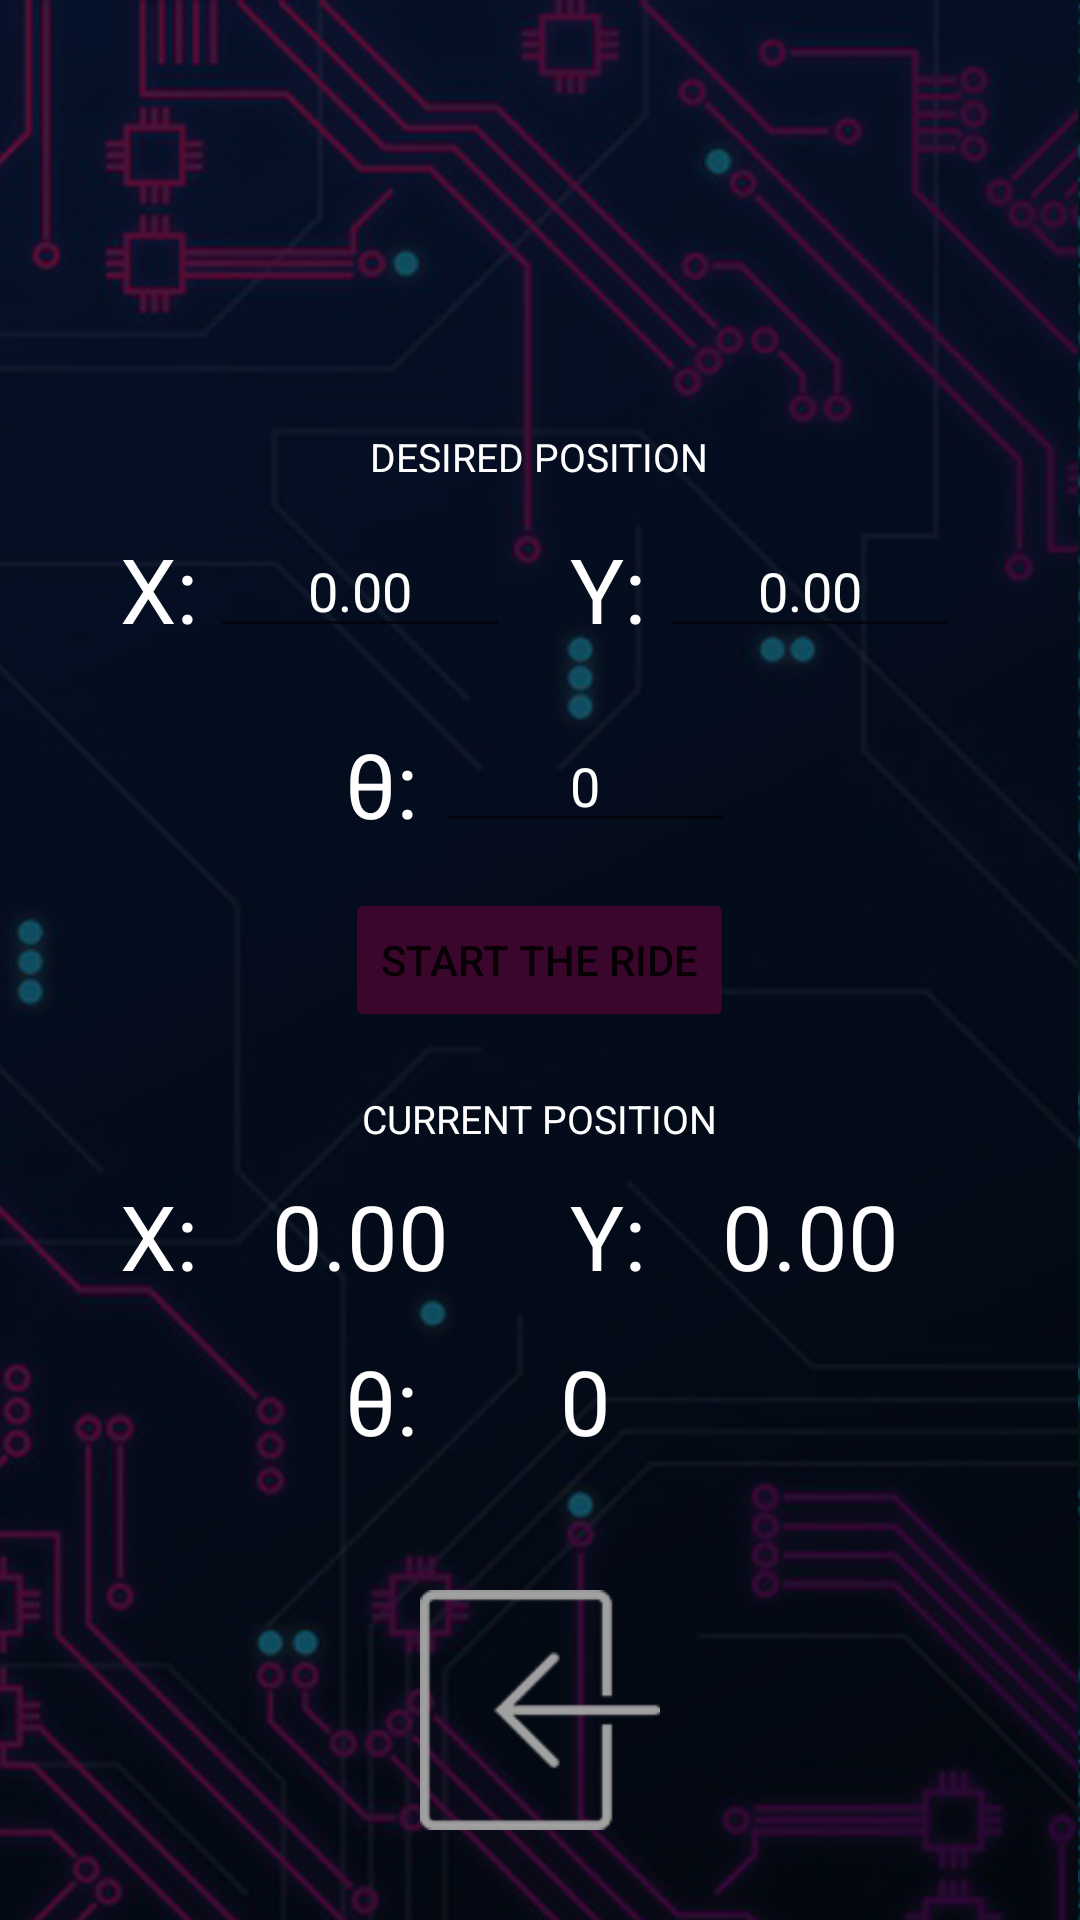

Icons on this 1080px x 1920px Android screen, each with the point to tap as (x,y):
exit: (525,1710)
